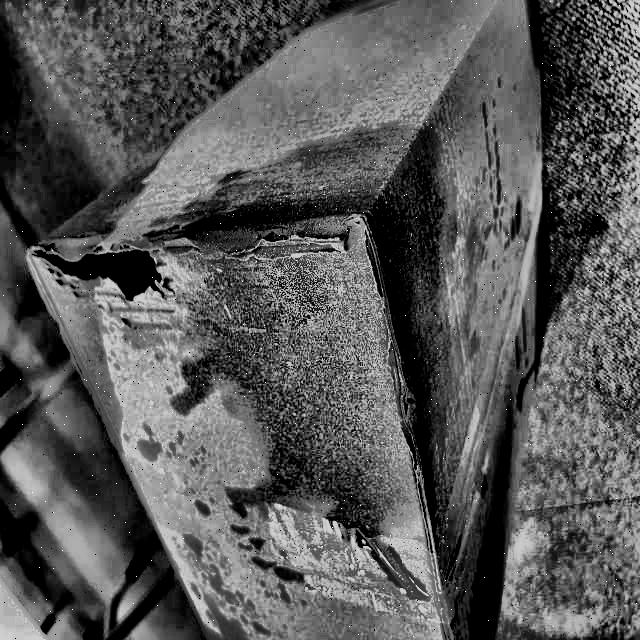box: (20, 1, 552, 640)
hole: (28, 224, 170, 322)
wet: (180, 103, 476, 509)
